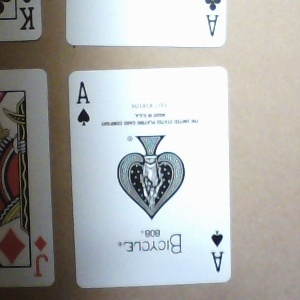card: (67, 65, 233, 288)
